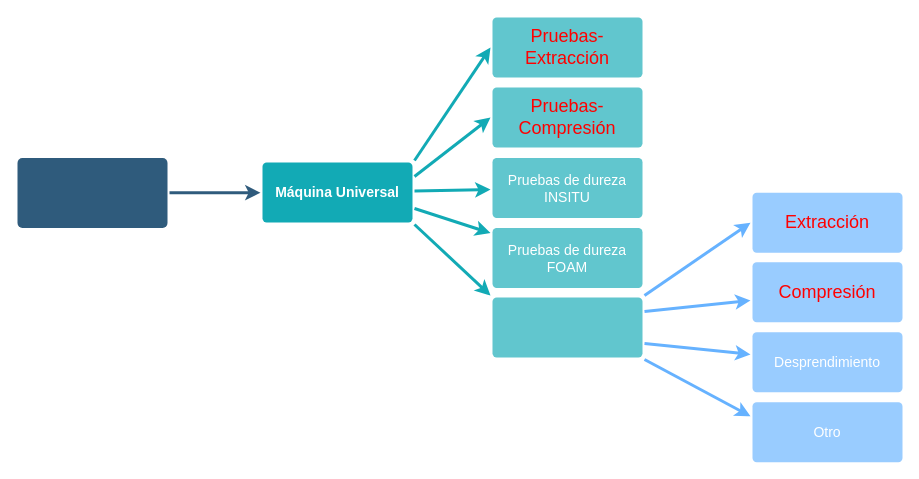
Image size: 919x479. Some labels were removed from this diagram. The box of each missing label's shape, as (x1, y1, x2, y2) in pixels:
Pruebas especiales/otra: (492, 297, 642, 357)
Tipos de Prueba: (17, 158, 167, 228)
